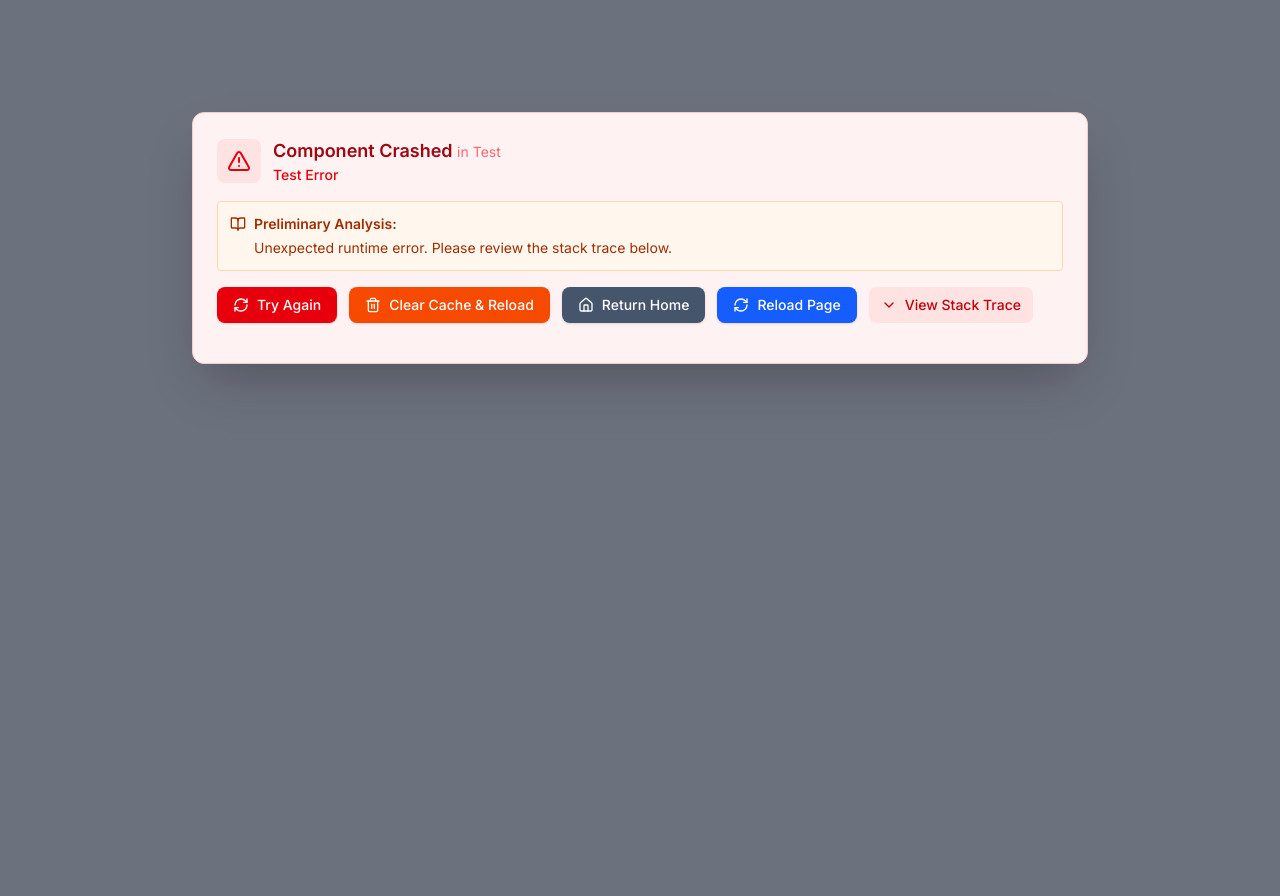
Test: ErrorBoundary UI component tests › should toggle the stack trace panel
Expected: the text "Error Stack" is not shown
Click the button "View Stack Trace": (951, 305) top-left (869, 287), bottom-right (1033, 323)
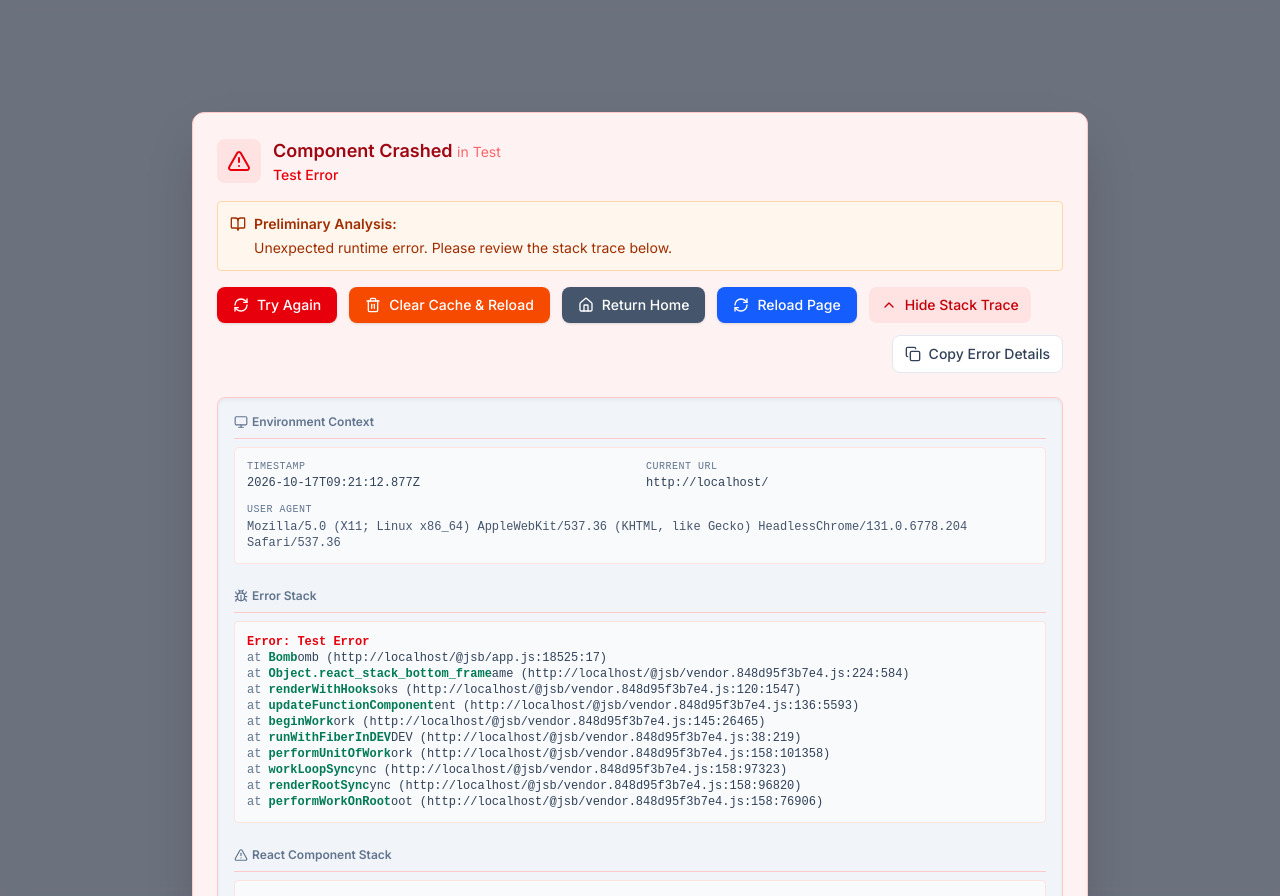
Now the text "Error Stack" is shown, box top-left (234, 588), bottom-right (1046, 613)
Now the text "React Component Stack" is shown, box top-left (234, 847), bottom-right (1046, 872)
Now the text "Environment Context" is shown, box top-left (234, 414), bottom-right (1046, 439)
Click the button "Hide Stack Trace": (950, 305) top-left (869, 287), bottom-right (1031, 323)
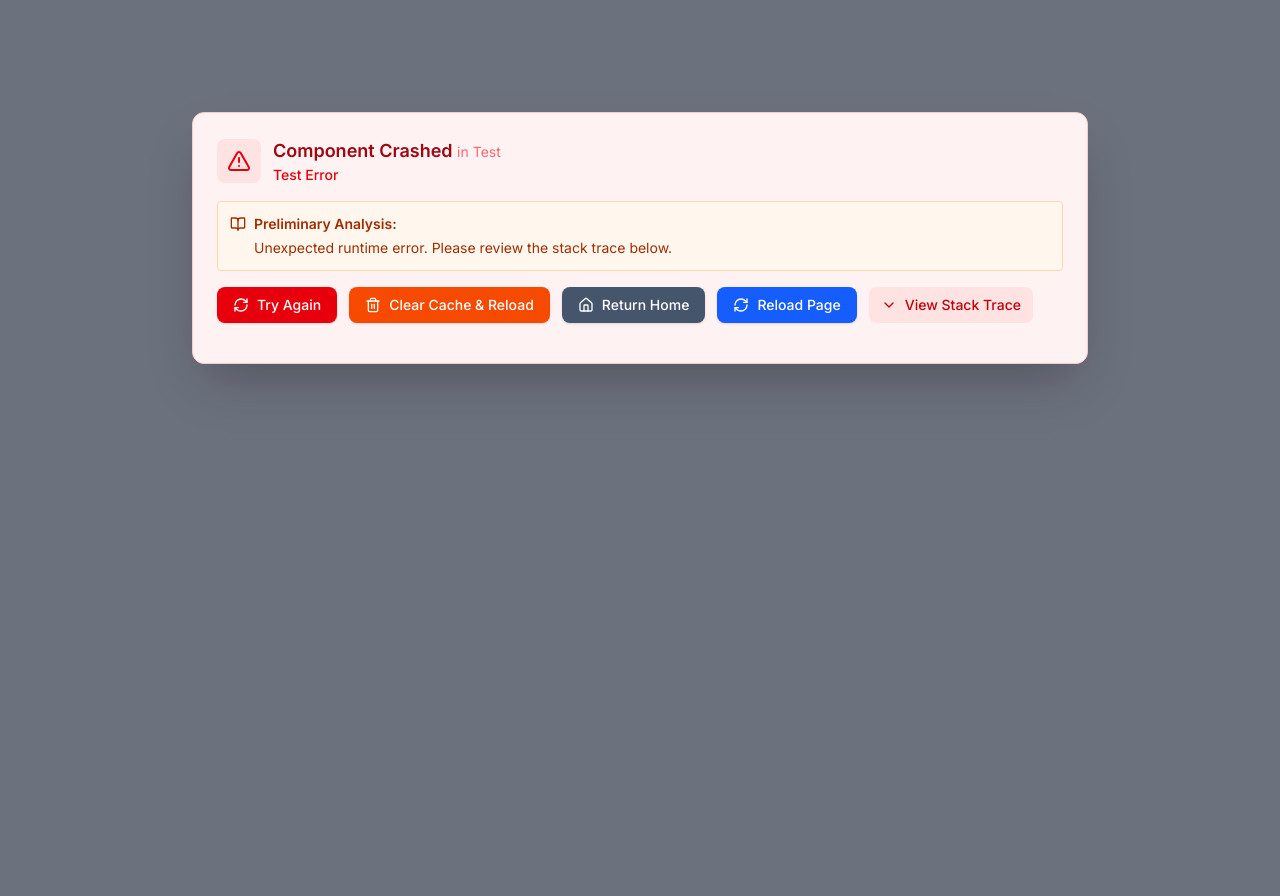
Now the text "Error Stack" is gone
